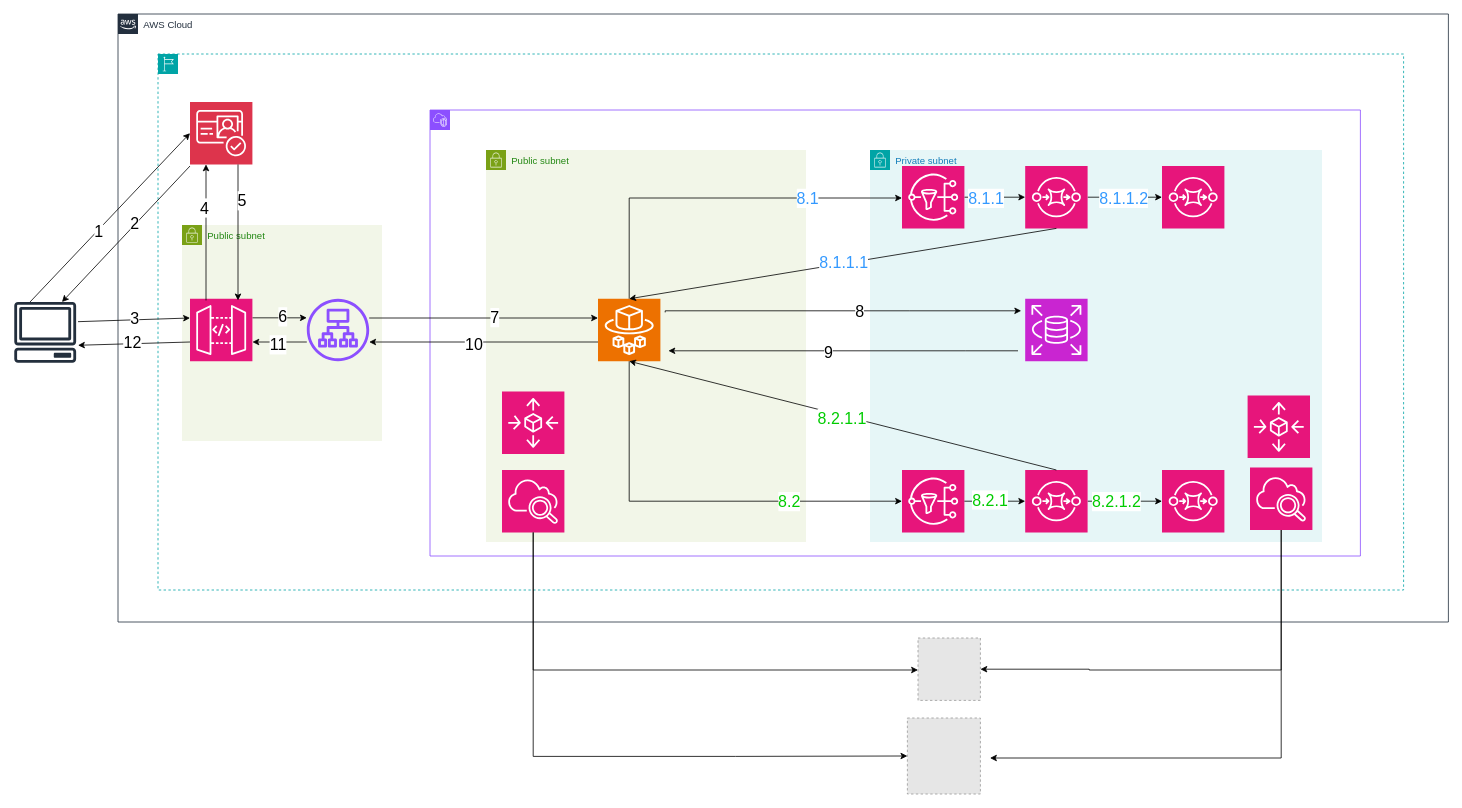
The diagram is 1462 pixels wide and 808 high, and some of its shapes have lost their labels. Grey dashed boxes stand in for pictures. Each missing label, with the box of its shape:
Region: (157, 53, 1404, 590)
VPC: (429, 109, 1360, 556)
